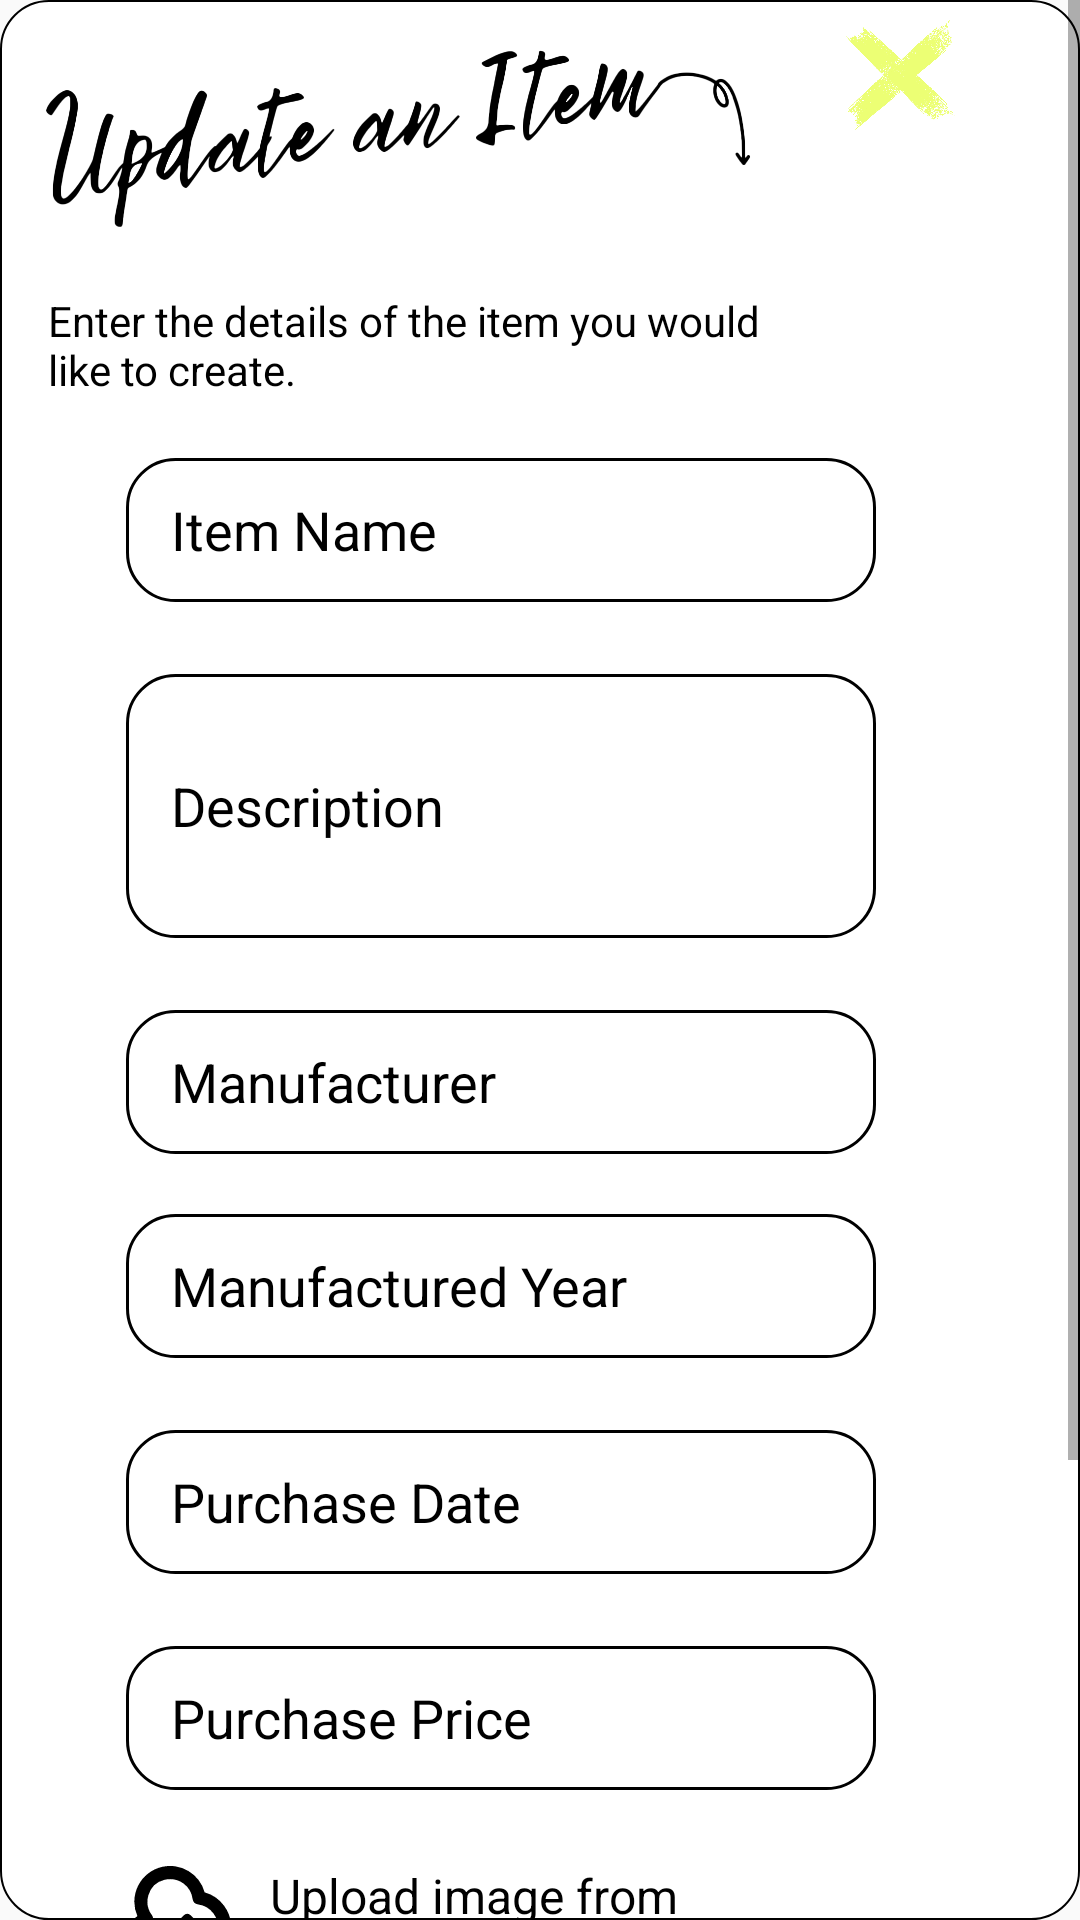

Icon bounding boxes for this 1080×1920 phone screenshot, format (x1, y1, x2, y2):
highlighter cross: (846, 20, 955, 130)
